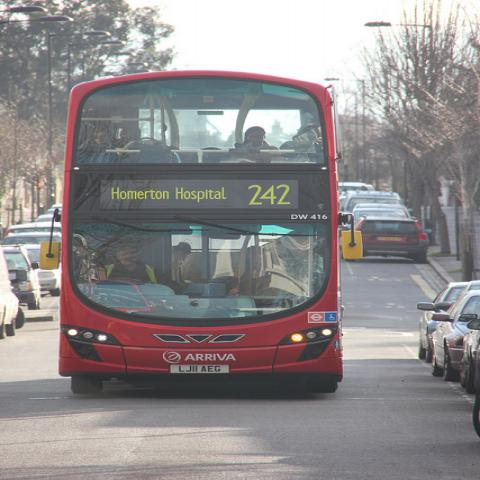bus: (66, 68, 344, 390)
car: (414, 282, 469, 362), (432, 290, 479, 382), (347, 216, 430, 264), (31, 208, 63, 298), (2, 243, 42, 310), (0, 246, 30, 330), (420, 279, 479, 319), (454, 318, 479, 392), (1, 232, 62, 262), (337, 182, 404, 204), (340, 193, 402, 214), (353, 205, 412, 226), (6, 222, 54, 234), (51, 203, 63, 215)
